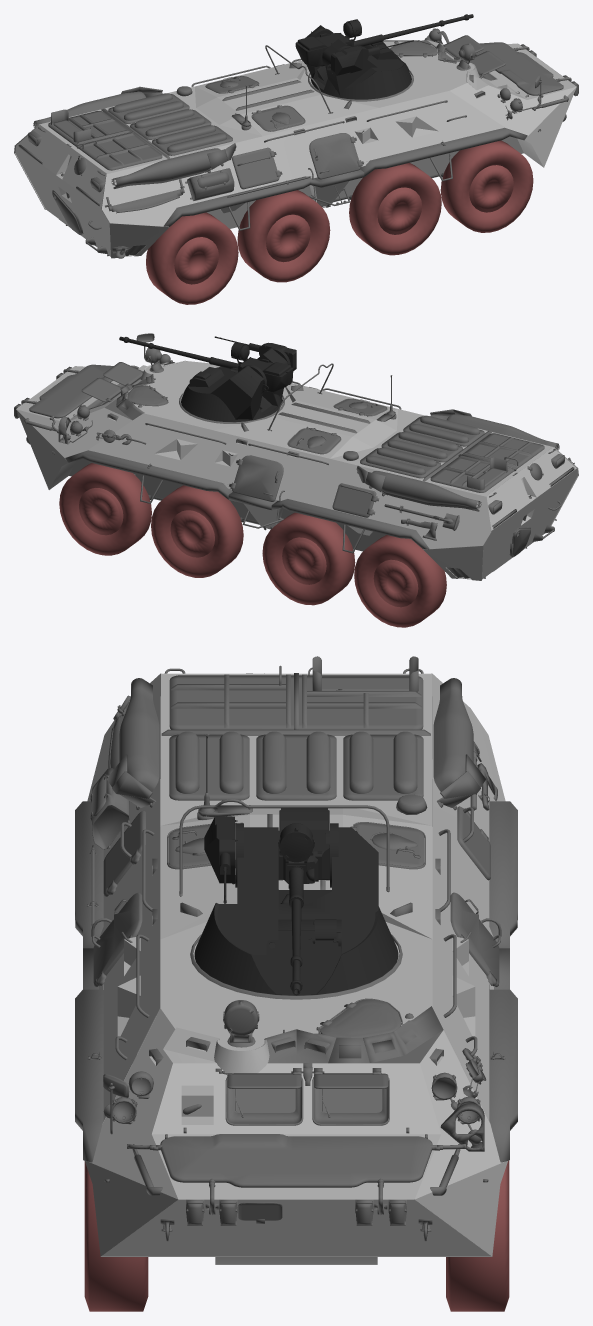
File: SM_tank_btr.FBX
3 views of the same model, one above another, from view 1: azimuth 30°, elevation 25°; view 2: azimuth 150°, elevation 25°; view 3: azimuth 270°, elevation 25° (orthographic). The views are drawn at different scales.
Visible parts, largest first — view 1: Object001; view 2: Object001; view 3: Object001.
Boxes of the visible parts, <box> form: Object001: <box>14,14,578,304</box>; Object001: <box>14,333,578,627</box>; Object001: <box>75,656,517,1311</box>.
Size of the model in its own units: 772 by 292 by 299.
